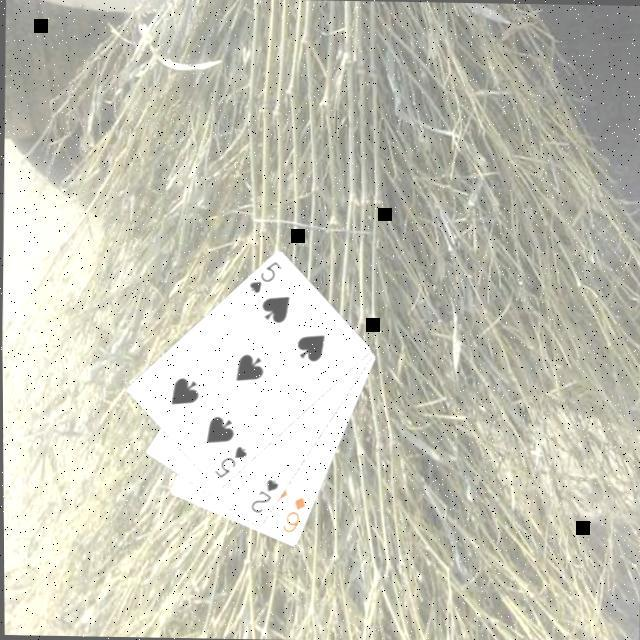2S: (245, 474, 280, 517)
5S: (243, 257, 283, 297), (208, 442, 248, 481)
6D: (276, 492, 307, 535)
